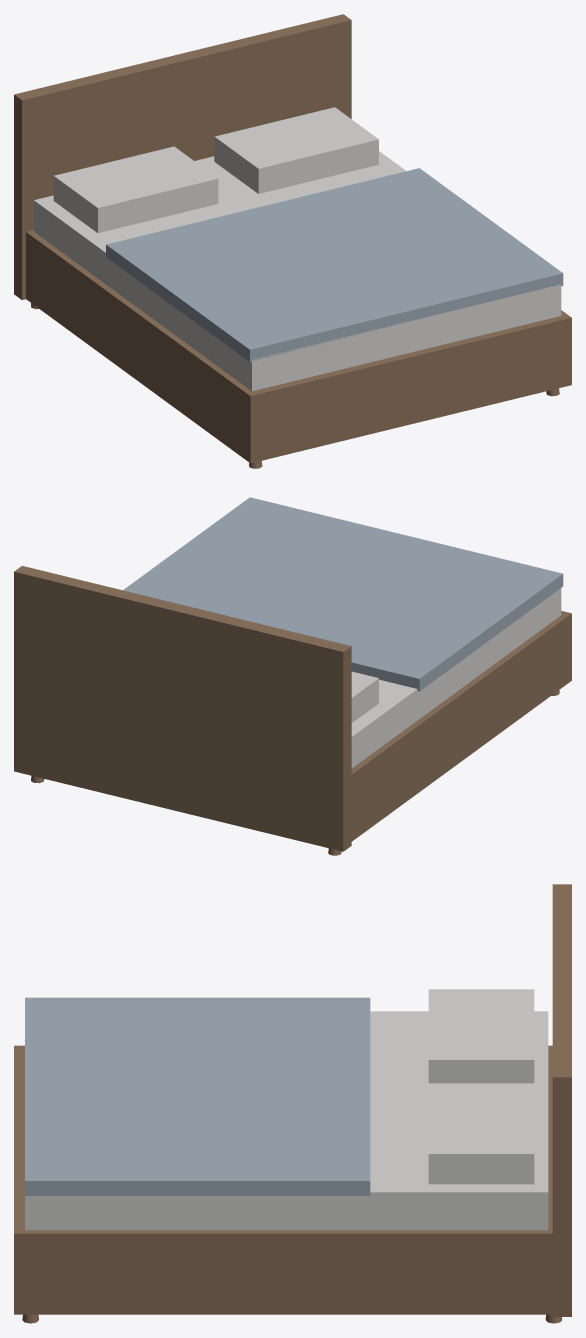
Rendered from 1744-Furniture-interiors-bed.glb.
3 views of the same model, one above another, from view 1: azimuth 30°, elevation 25°; view 2: azimuth 150°, elevation 25°; view 3: azimuth 270°, elevation 25° (orthographic). The views are drawn at different scales.
Visible parts, largest first — view 1: Furniture (interiors)/bed; view 2: Furniture (interiors)/bed; view 3: Furniture (interiors)/bed.
Part boxes in pixels (box(x1,y1,x2,y2)): Furniture (interiors)/bed: box(14, 14, 571, 468); Furniture (interiors)/bed: box(14, 497, 571, 855); Furniture (interiors)/bed: box(14, 884, 571, 1323).
Bounding box in the file's own units: 1.64 × 1 × 2.
